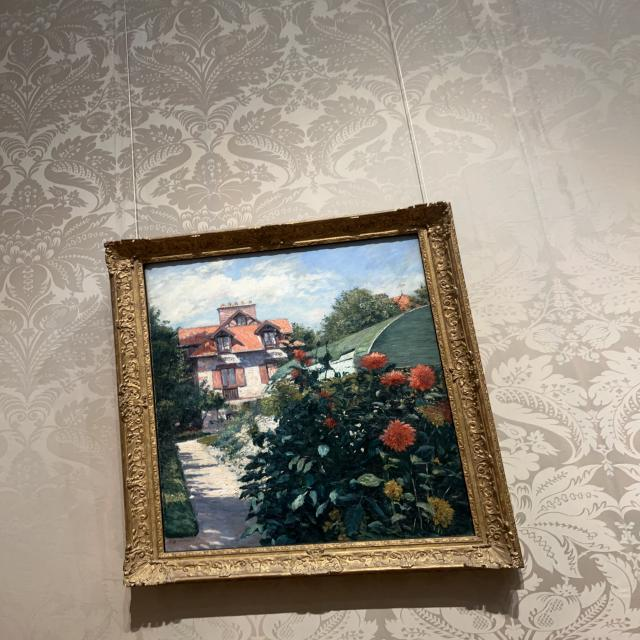summer: (144, 236, 475, 553)
